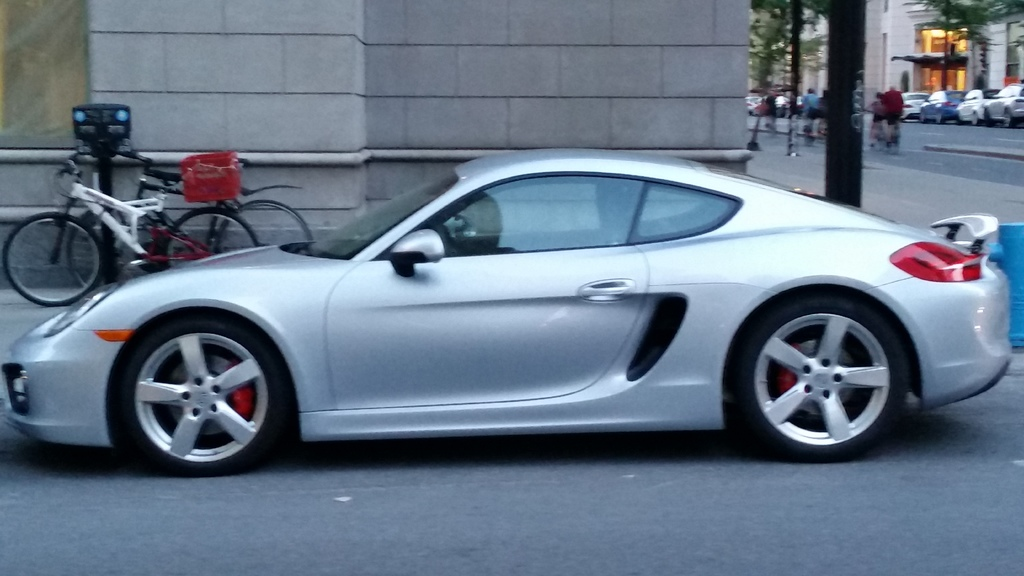Car: (0, 146, 1011, 459)
